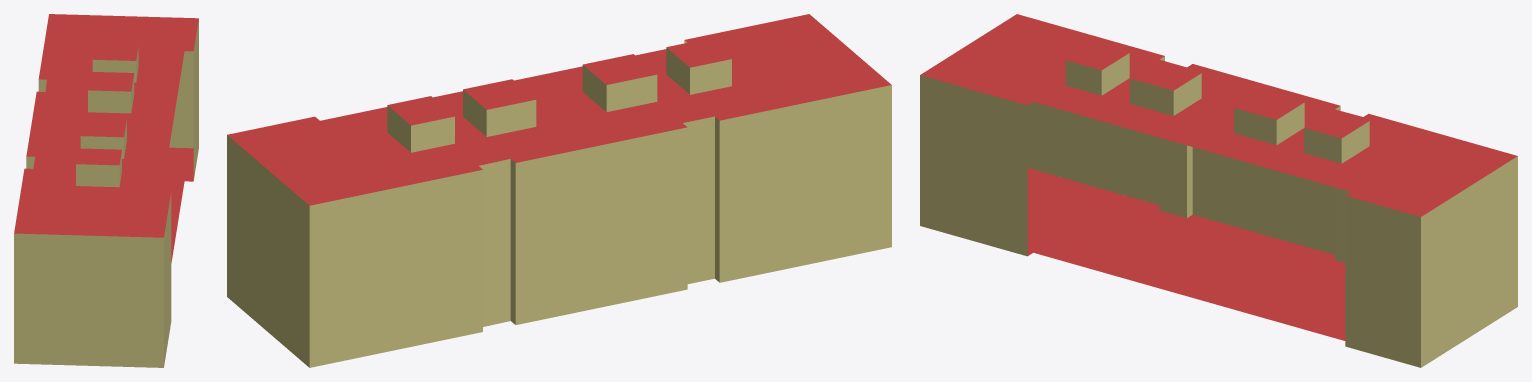
3 renders of one model, left to right at view 1: azimuth 30°, elevation 25°; view 2: azimuth 150°, elevation 25°; view 3: azimuth 270°, elevation 25°, orthographic. The views are drawn at different scales.
Visible parts, largest first — view 1: group_3, group_12, group_13, group_5, group_7, group_8, group_4, group_10, group_6, group_9, group_11; view 2: group_12, group_3, group_9, group_5, group_11, group_7, group_8, group_4, group_10, group_6; view 3: group_12, group_3, group_13, group_9, group_5, group_11, group_7, group_8, group_4, group_10, group_6.
Part boxes in pixels (<box>): group_3: <box>14,14,198,237</box>; group_12: <box>14,19,198,367</box>; group_13: <box>162,147,193,262</box>; group_5: <box>88,74,134,113</box>; group_7: <box>76,151,121,187</box>; group_8: <box>80,117,126,137</box>; group_4: <box>88,71,134,91</box>; group_10: <box>93,43,138,60</box>; group_6: <box>76,148,121,165</box>; group_9: <box>80,120,126,158</box>; group_11: <box>92,46,138,82</box>; group_12: <box>227,40,891,367</box>; group_3: <box>227,14,891,205</box>; group_9: <box>582,65,657,112</box>; group_5: <box>463,90,536,136</box>; group_11: <box>387,105,454,152</box>; group_7: <box>666,47,731,94</box>; group_8: <box>583,54,656,84</box>; group_4: <box>463,79,535,109</box>; group_10: <box>387,96,454,125</box>; group_6: <box>666,38,731,67</box>; group_12: <box>920,56,1517,367</box>; group_3: <box>920,14,1517,216</box>; group_13: <box>1027,168,1345,340</box>; group_9: <box>1130,73,1201,115</box>; group_5: <box>1234,102,1304,145</box>; group_11: <box>1304,121,1369,163</box>; group_7: <box>1065,53,1129,95</box>; group_8: <box>1130,61,1201,90</box>; group_4: <box>1234,90,1304,119</box>; group_10: <box>1304,110,1369,138</box>; group_6: <box>1066,42,1129,70</box>.
Size of the model in its own units: 56.38 by 70.14 by 22.8.
